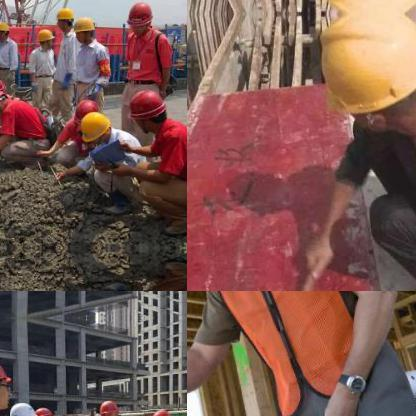Helmet: (306, 12, 415, 145), (126, 85, 168, 131), (305, 0, 415, 14), (78, 106, 112, 146), (125, 0, 155, 34), (72, 13, 95, 41), (53, 3, 75, 30), (73, 96, 97, 120), (95, 395, 121, 415), (36, 26, 56, 48), (7, 400, 36, 415), (0, 17, 12, 42), (149, 404, 174, 415), (32, 403, 54, 415), (0, 73, 7, 95), (0, 85, 6, 108)
